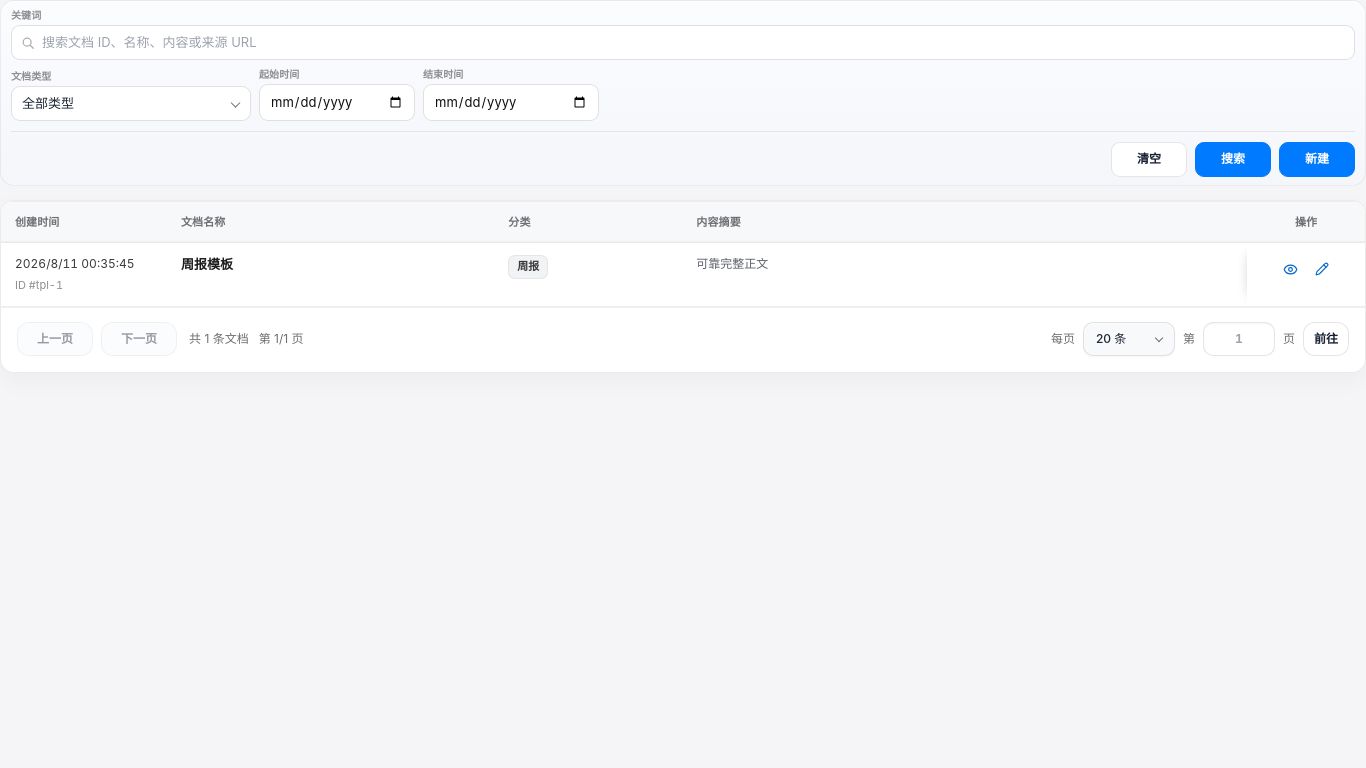
Test: Bake 详情展示优化 › 来源提交暂停时展示明确原因并保留正文
Click the button named "查看文档「周报模板」详情". click: (1290, 269)
box: [1276,255,1304,283]
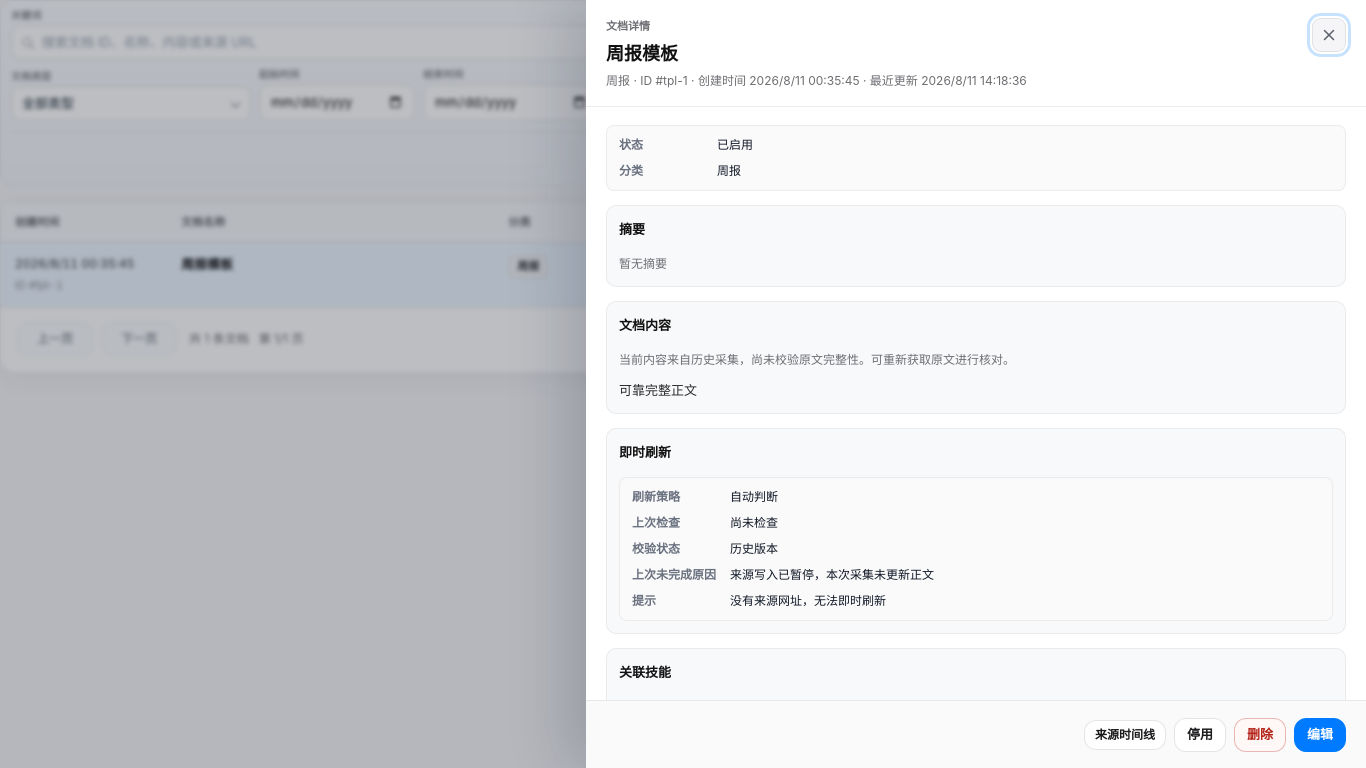
Expected: the text "来源写入已暂停，本次采集未更新正文" is shown, [730,567,934,582]
Expected: the text "可靠完整正文" is shown, [619,382,697,398]
